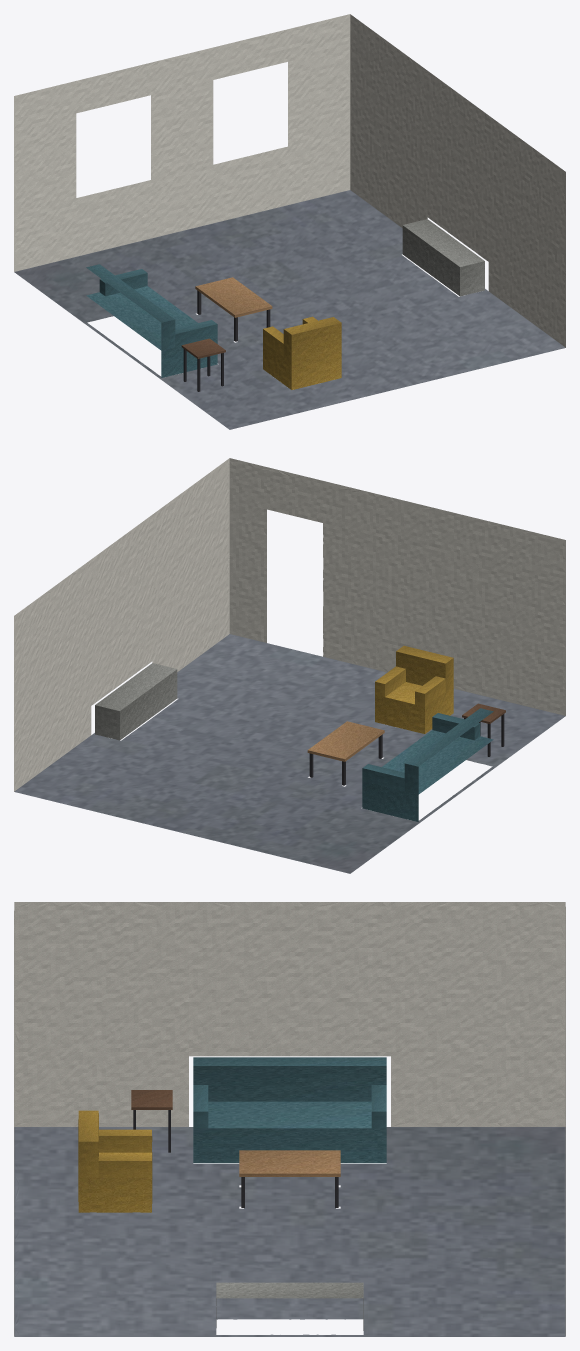
File: main.glb
3 renders of one model, top to bottom at view 1: azimuth 30°, elevation 25°; view 2: azimuth 150°, elevation 25°; view 3: azimuth 270°, elevation 25°, orthographic. The views are drawn at different scales.
Visible parts, largest first — view 1: Floor, North wall, East wall, Bench, Sofa base, Armchair base, Armchair back, Coffee table top, Sofa back, Sofa arms, Side table top, Armchair arms; view 2: Floor, South wall, East wall, Sofa base, Bench, Armchair base, Armchair back, Coffee table top, Sofa back, Sofa arms, Armchair arms; view 3: West wall, Floor, Sofa base, Sofa back, Armchair base, Coffee table top, Armchair arms, Bench, Armchair back, Sofa arms, Side table top.
Part boxes in pixels (left/top/right/bottom): Floor: left=14, top=190, right=565, bottom=429; North wall: left=14, top=14, right=350, bottom=271; East wall: left=350, top=14, right=565, bottom=347; Bench: left=402, top=219, right=484, bottom=296; Sofa base: left=86, top=286, right=217, bottom=377; Armchair base: left=263, top=342, right=341, bottom=389; Armchair back: left=283, top=317, right=341, bottom=362; Coffee table top: left=195, top=277, right=272, bottom=317; Sofa back: left=86, top=264, right=175, bottom=350; Sofa arms: left=99, top=269, right=217, bottom=347; Side table top: left=181, top=338, right=225, bottom=358; Armchair arms: left=263, top=316, right=317, bottom=356; Floor: left=14, top=634, right=565, bottom=873; South wall: left=229, top=458, right=565, bottom=715; East wall: left=14, top=458, right=229, bottom=791; Sofa base: left=362, top=730, right=493, bottom=821; Bench: left=95, top=663, right=177, bottom=740; Armchair base: left=375, top=682, right=453, bottom=733; Armchair back: left=396, top=645, right=453, bottom=691; Coffee table top: left=307, top=721, right=384, bottom=761; Sofa back: left=404, top=708, right=493, bottom=794; Sofa arms: left=362, top=713, right=480, bottom=791; Armchair arms: left=375, top=666, right=445, bottom=706; West wall: left=14, top=902, right=565, bottom=1126; Floor: left=14, top=1127, right=565, bottom=1336; Sofa base: left=193, top=1101, right=386, bottom=1163; Sofa back: left=193, top=1057, right=386, bottom=1101; Armchair base: left=78, top=1152, right=152, bottom=1212; Coffee table top: left=239, top=1150, right=340, bottom=1176; Armchair arms: left=98, top=1129, right=152, bottom=1177; Bench: left=216, top=1282, right=363, bottom=1330; Armchair back: left=78, top=1110, right=98, bottom=1177; Sofa arms: left=193, top=1085, right=386, bottom=1128; Side table top: left=131, top=1090, right=172, bottom=1109.
Size of the model in its own units: 5.4 by 2.7 by 6.
Materials: 17 (17 with a texture image).
